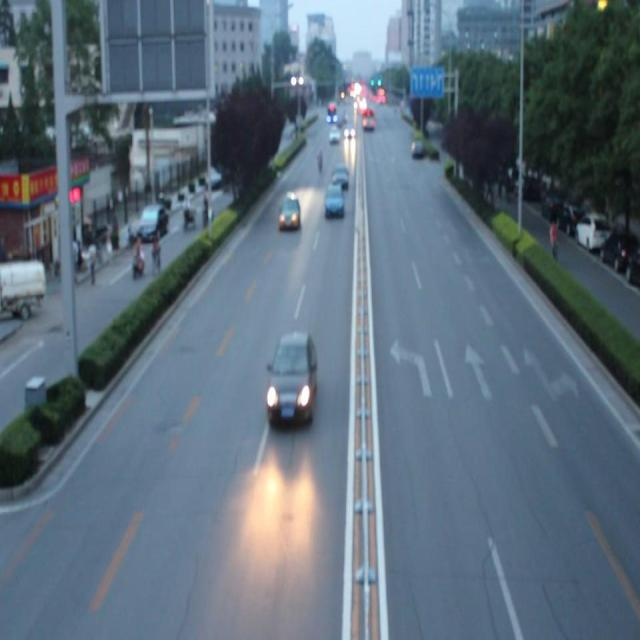car: (264, 331, 316, 423), (278, 191, 302, 232), (324, 184, 345, 219)
